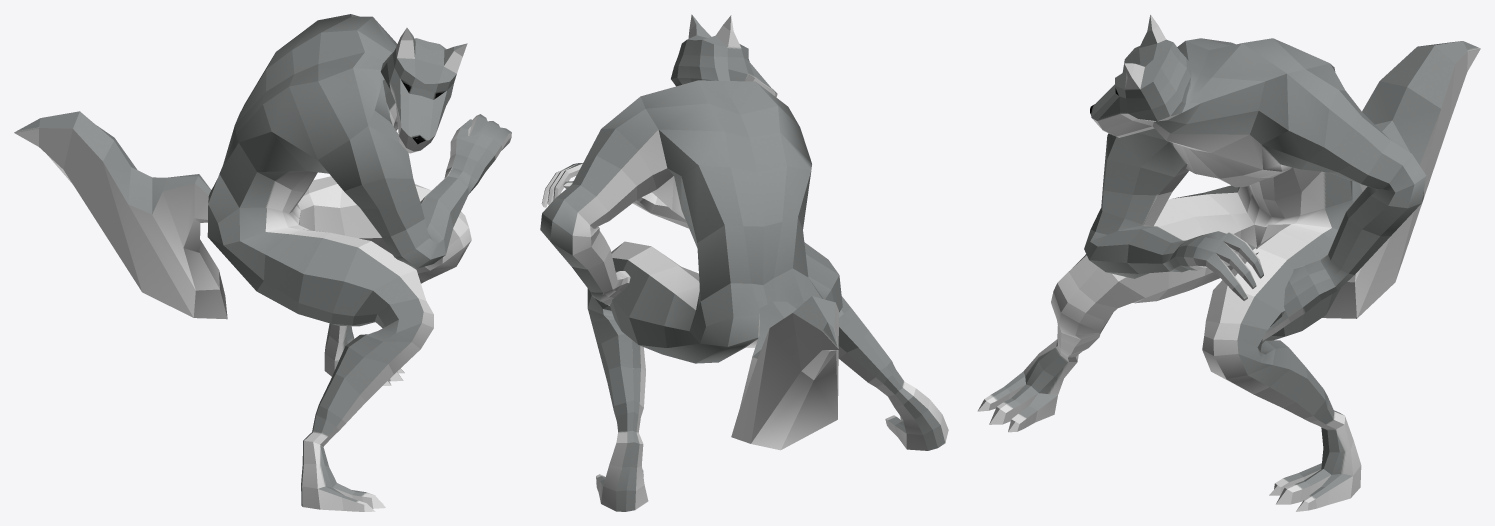
Rendered from WolfAttack(52).obj.
3 views of the same model, side by side, from view 1: azimuth 30°, elevation 25°; view 2: azimuth 150°, elevation 25°; view 3: azimuth 270°, elevation 25° (orthographic). The views are drawn at different scales.
Visible parts, largest first — view 1: Box001; view 2: Box001; view 3: Box001.
Part boxes in pixels (x1,y1,x2,y2): Box001: (14, 14, 511, 511); Box001: (540, 14, 948, 511); Box001: (977, 14, 1480, 511).
Bounding box in the file's own units: 102 × 104 × 101.
